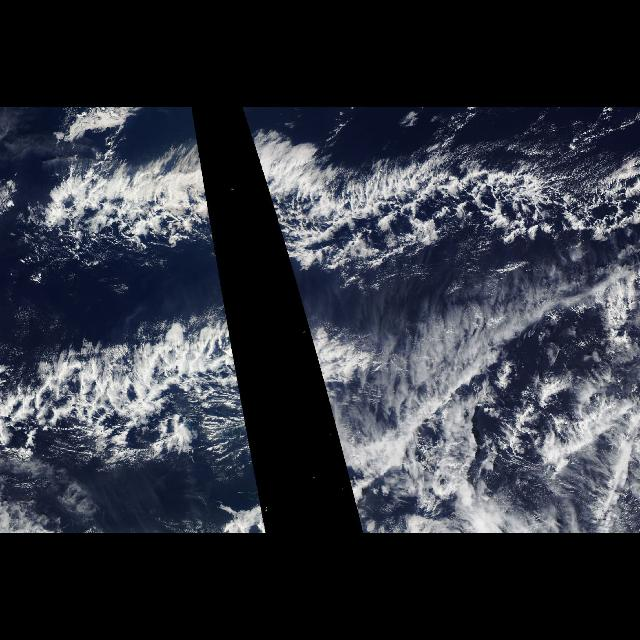Fish: (248, 132, 640, 288), (0, 310, 258, 478), (19, 132, 222, 288), (302, 310, 401, 478)
